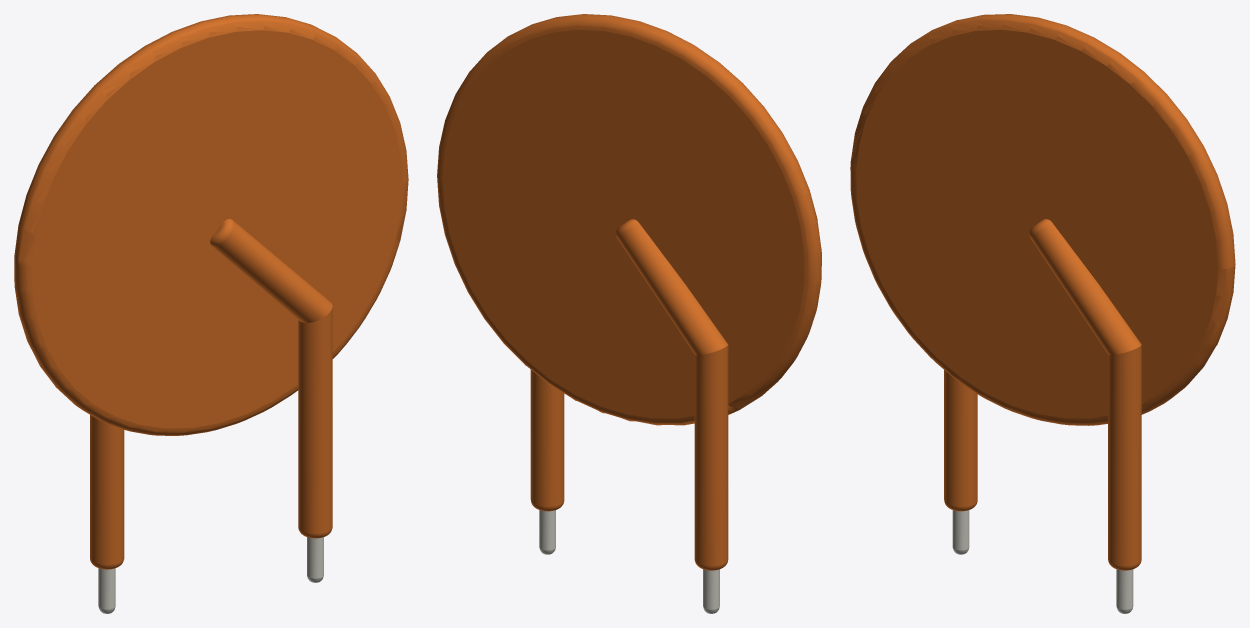
File: kc-fuse_belfuse_0zre_0zre0125ff_l21.2mm_w5.3mm.glb
3 views of the same model, side by side, from view 1: azimuth 30°, elevation 25°; view 2: azimuth 150°, elevation 25°; view 3: azimuth 330°, elevation 25° (orthographic). The views are drawn at different scales.
Parts seen in each view (by area): view 1: 0.5833333333333334_0.16666666666666666_0_0, 0.6666666666666666_0.6666666666666666_0.5833333333333334_0.8; view 2: 0.5833333333333334_0.16666666666666666_0_0, 0.6666666666666666_0.6666666666666666_0.5833333333333334_0.8; view 3: 0.5833333333333334_0.16666666666666666_0_0, 0.6666666666666666_0.6666666666666666_0.5833333333333334_0.8.
Part boxes in pixels (x1,y1,x2,y2): 0.5833333333333334_0.16666666666666666_0_0: (14, 14, 408, 569); 0.6666666666666666_0.6666666666666666_0.5833333333333334_0.8: (98, 537, 323, 613); 0.5833333333333334_0.16666666666666666_0_0: (437, 14, 821, 570); 0.6666666666666666_0.6666666666666666_0.5833333333333334_0.8: (539, 510, 719, 613); 0.5833333333333334_0.16666666666666666_0_0: (850, 14, 1235, 570); 0.6666666666666666_0.6666666666666666_0.5833333333333334_0.8: (952, 510, 1133, 613).
Bounding box in the file's own units: 2.12 × 2.99 × 0.3518.
